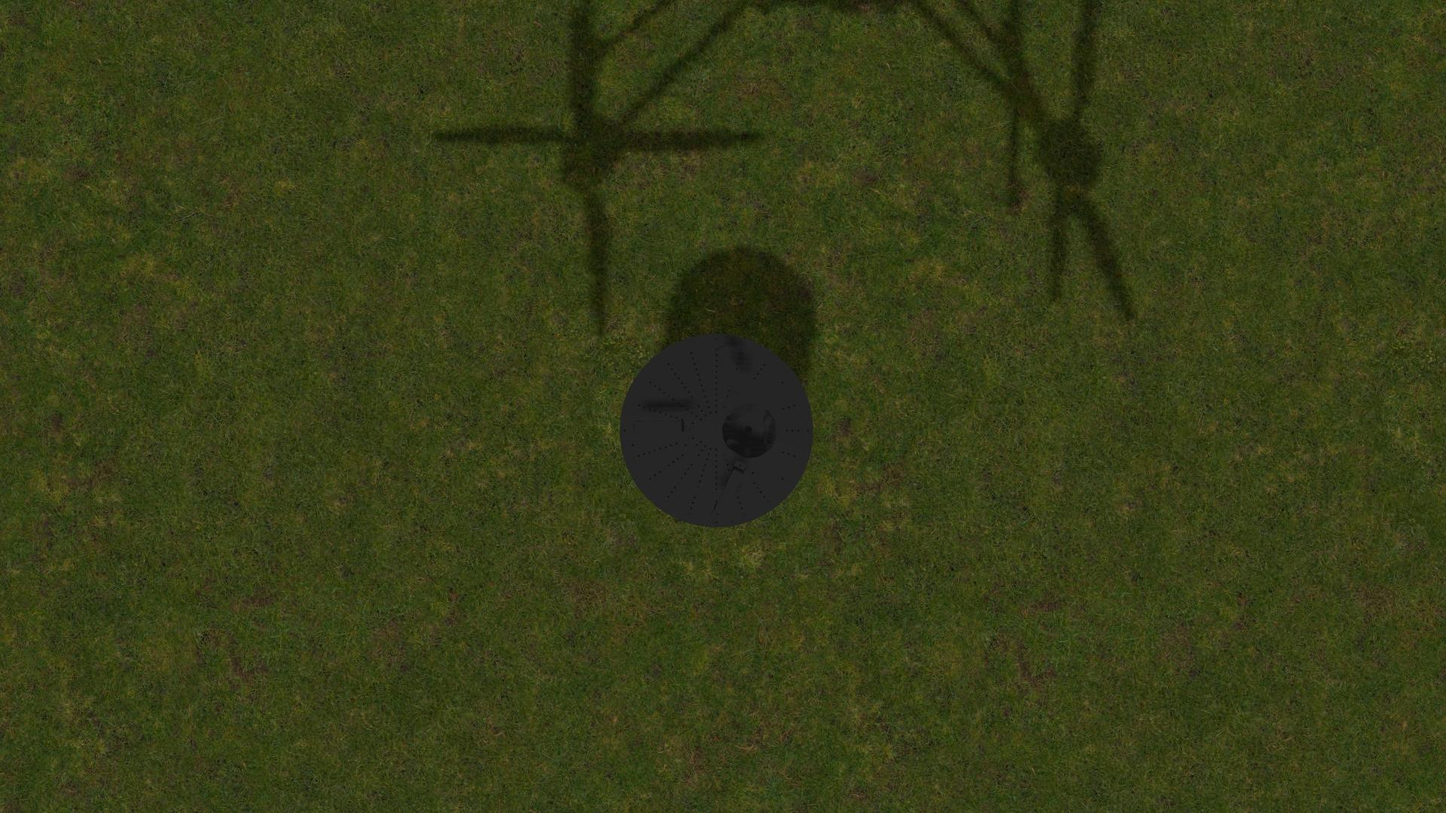alca: (711, 460, 747, 519), (713, 341, 747, 399), (629, 420, 691, 434)
armadilha: (619, 333, 813, 528)
